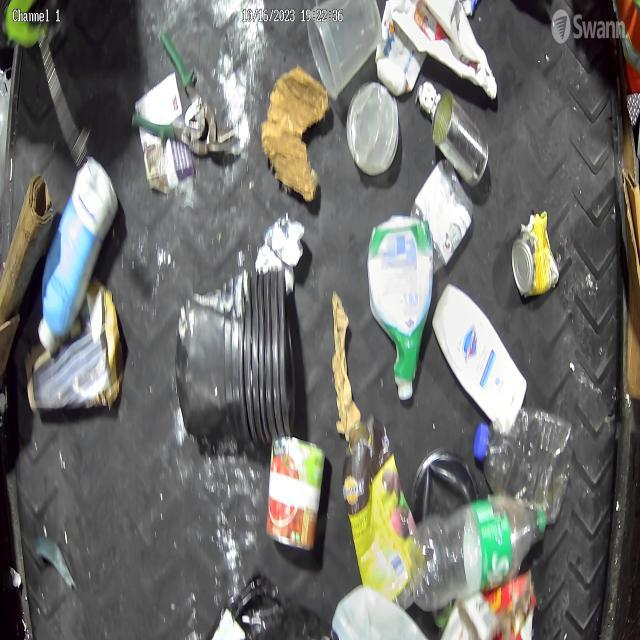can: (265, 429, 327, 554), (430, 88, 490, 190), (510, 207, 560, 300)
milk_jug: (330, 580, 429, 640)
plastic_bottle: (408, 495, 548, 612), (472, 410, 576, 526)
